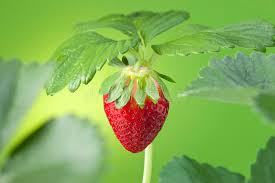ripe: (99, 67, 171, 154)
